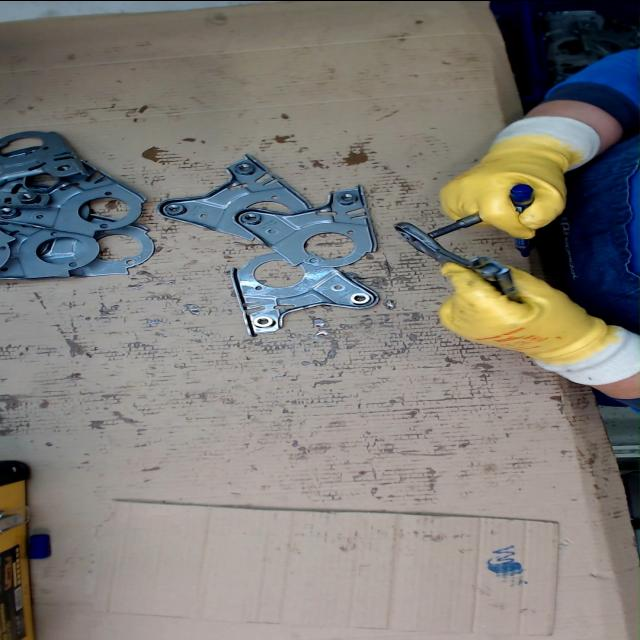hands: (437, 260, 612, 366), (436, 133, 570, 240)
